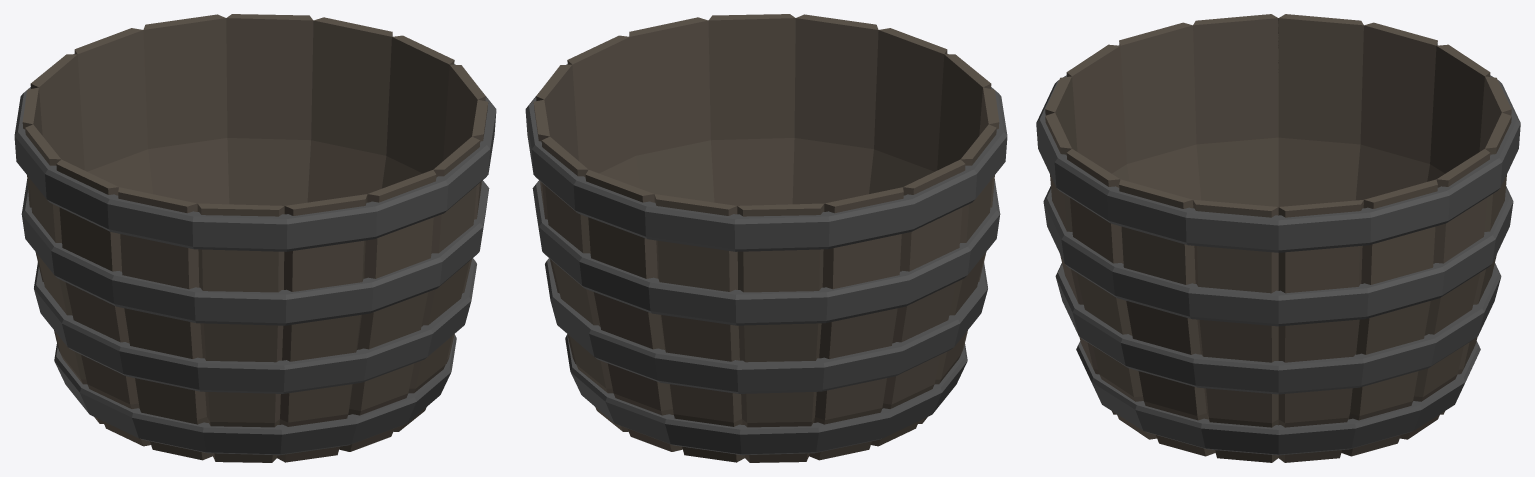
The model's file is Prop_Barrel_Half_01.fbx.
The picture shows the model from 3 angles, left to right: view 1: azimuth 30°, elevation 25°; view 2: azimuth 150°, elevation 25°; view 3: azimuth 270°, elevation 25°; orthographic projection.
Visible parts, largest first — view 1: Prop_Barrel_Half_01_LOD0; view 2: Prop_Barrel_Half_01_LOD0; view 3: Prop_Barrel_Half_01_LOD0.
Boxes of the visible parts, x1=… form: Prop_Barrel_Half_01_LOD0: x1=14, y1=14, x2=496, y2=462; Prop_Barrel_Half_01_LOD0: x1=525, y1=14, x2=1007, y2=462; Prop_Barrel_Half_01_LOD0: x1=1036, y1=14, x2=1520, y2=462.
Size of what is drawn, in the model's own units: 70.33 by 44.22 by 70.33.
